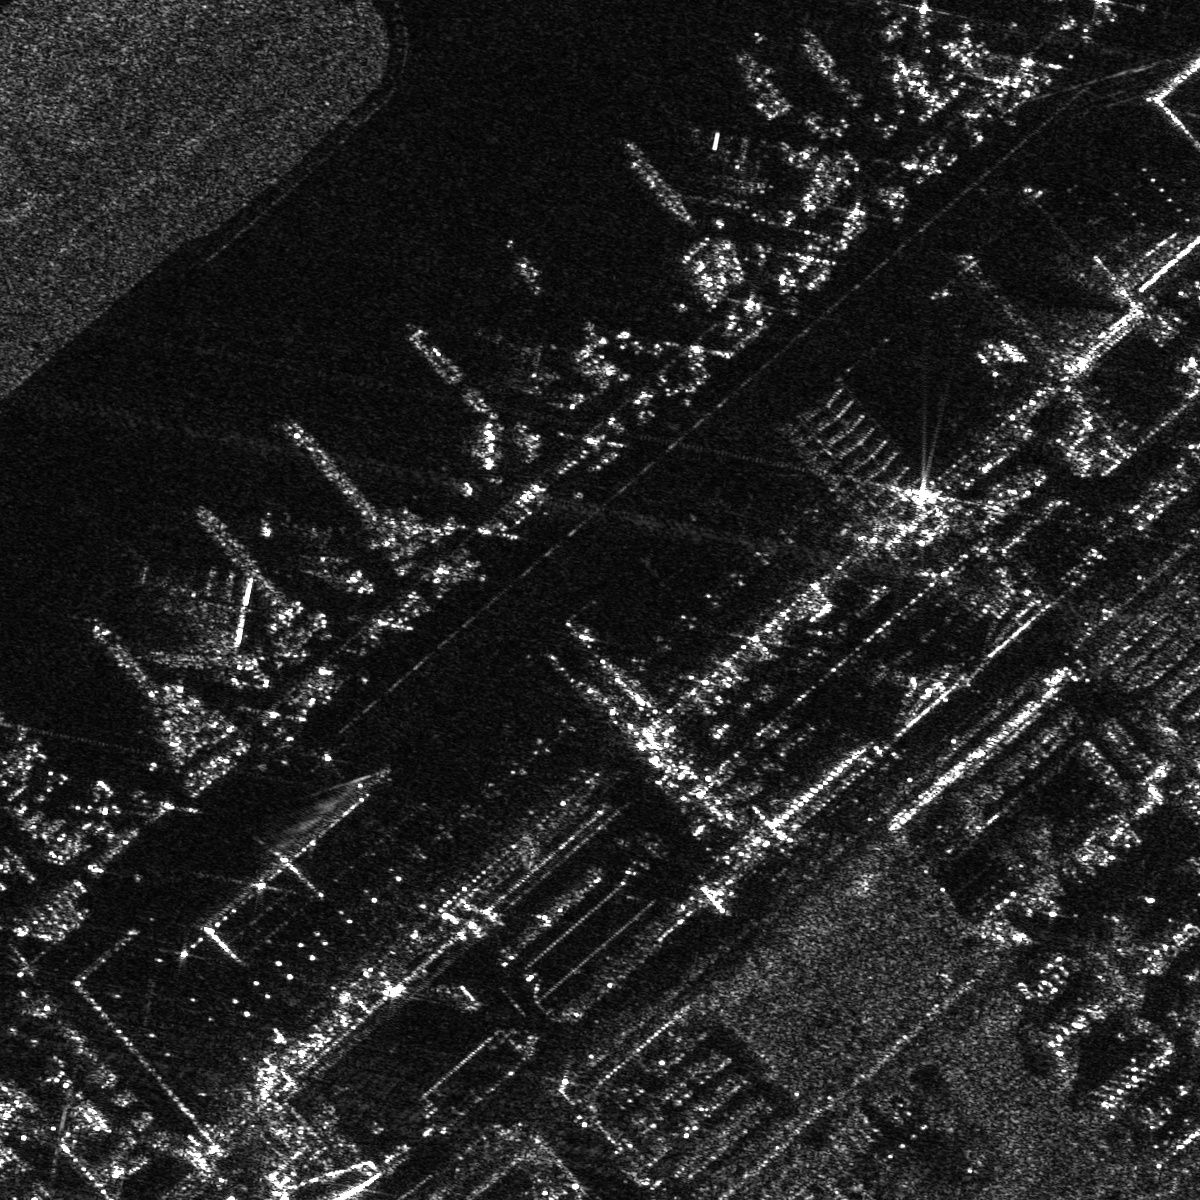Boeing787: (136, 563, 251, 665), (267, 504, 374, 589)
other: (688, 123, 780, 203), (475, 325, 558, 386)
